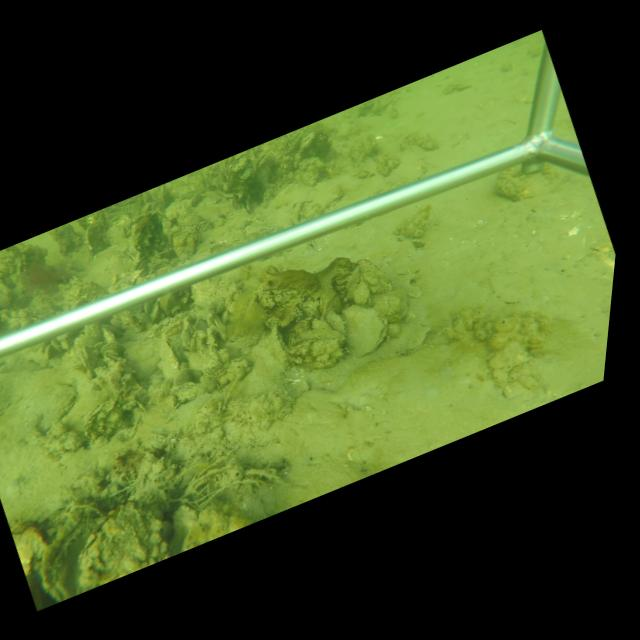Oyster-Closed: (344, 304, 391, 359), (257, 323, 293, 372), (354, 257, 394, 294), (158, 336, 181, 379)
